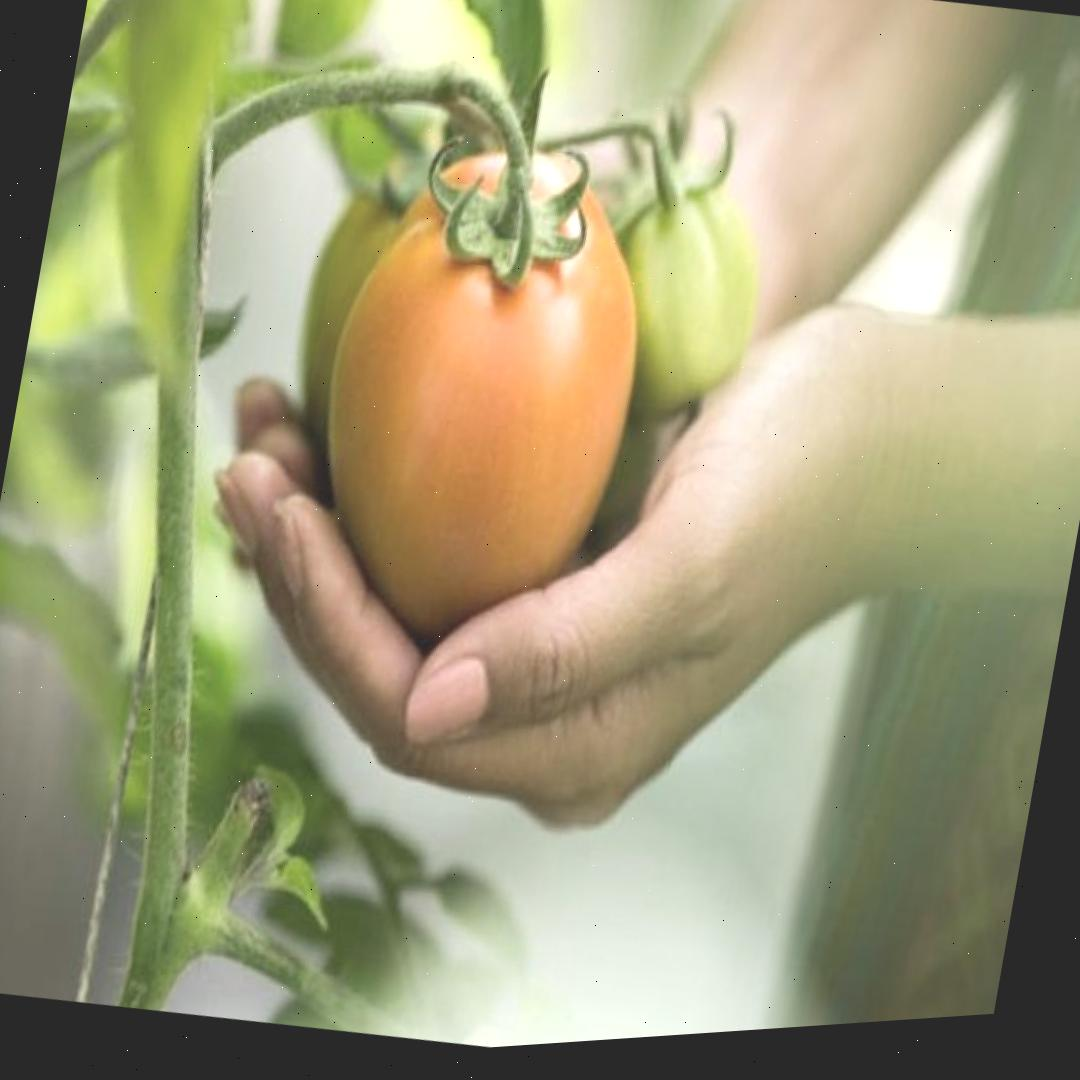setengah_matang: (280, 103, 671, 688)
